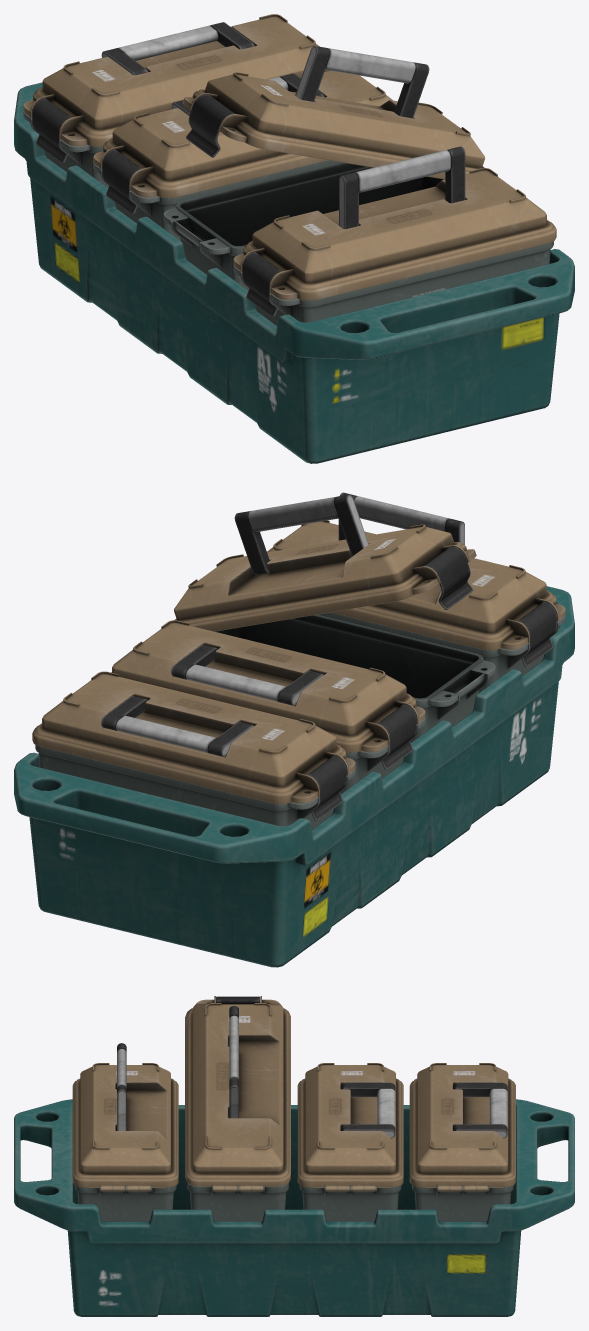
Rendered from SM_BulletCaseFull_Style02.fbx.
The picture shows the model from 3 angles, top to bottom: view 1: azimuth 30°, elevation 25°; view 2: azimuth 150°, elevation 25°; view 3: azimuth 270°, elevation 25°; orthographic projection. The views are drawn at different scales.
Parts seen in each view (by area): view 1: SM_BulletCaseFull_Style02_LOD0; view 2: SM_BulletCaseFull_Style02_LOD0; view 3: SM_BulletCaseFull_Style02_LOD0.
Boxes of the visible parts, x1,y1,x2,y2 form: SM_BulletCaseFull_Style02_LOD0: (14,14,574,463); SM_BulletCaseFull_Style02_LOD0: (14,492,574,967); SM_BulletCaseFull_Style02_LOD0: (14,996,574,1316).
Bounding box in the file's own units: 48.64 × 104 × 52.73.
2 materials, 2 textured.
